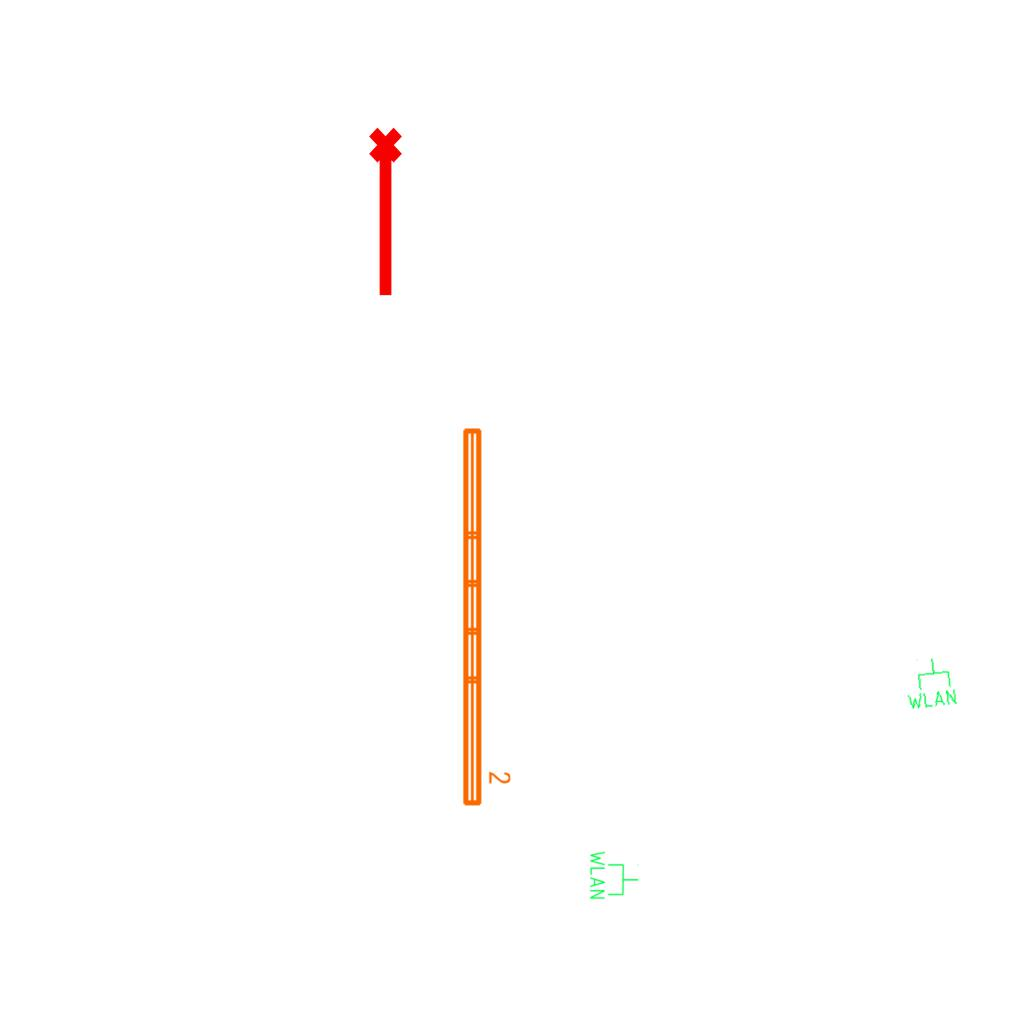ASR_Ansaugoeffnung: (365, 125, 411, 301)
Ambulanz_Pendelleuchte_LED: (457, 423, 513, 810)
WLAN: (901, 654, 959, 712), (588, 849, 640, 901)
